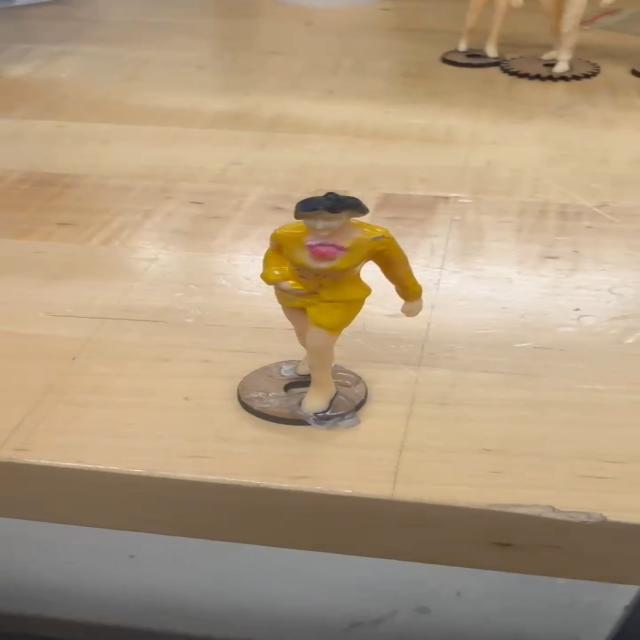Authorized: (222, 179, 432, 431)
